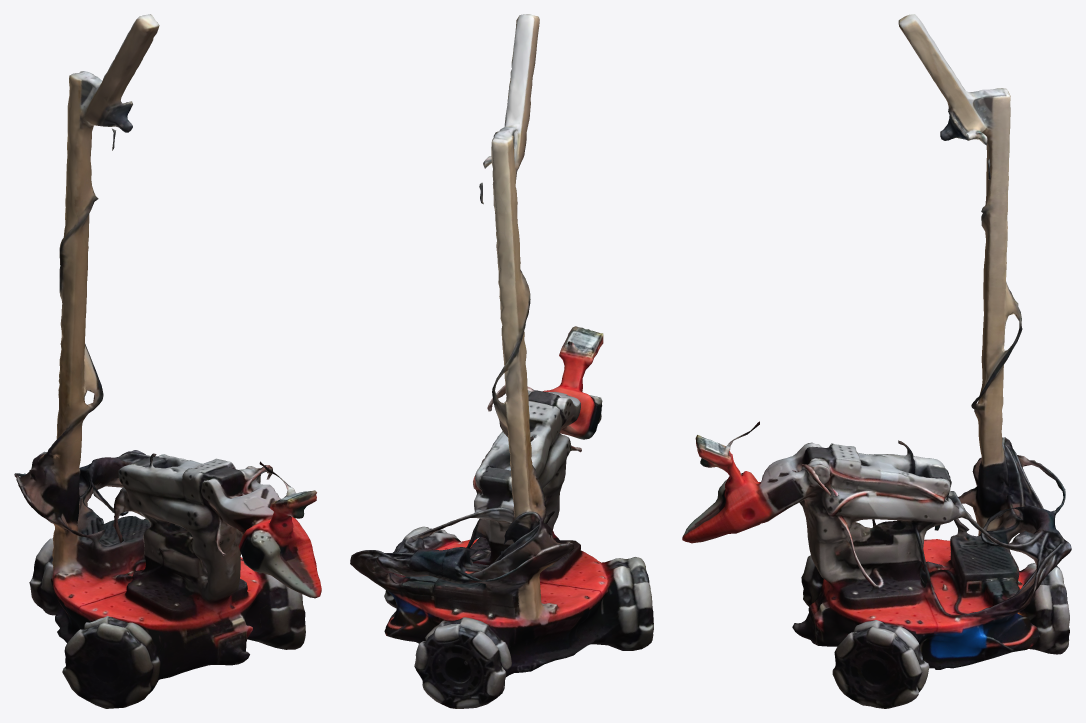
Rendered from lekiwi.glb.
3 renders of one model, left to right at view 1: azimuth 30°, elevation 25°; view 2: azimuth 150°, elevation 25°; view 3: azimuth 270°, elevation 25°, orthographic. The views are drawn at different scales.
Parts seen in each view (by area): view 1: LeKiwi; view 2: LeKiwi; view 3: LeKiwi.
Part boxes in pixels (bbox=[...]): LeKiwi: bbox=[14, 14, 321, 708]; LeKiwi: bbox=[350, 14, 653, 708]; LeKiwi: bbox=[682, 14, 1071, 708].
Bounding box in the file's own units: 0.299 × 0.7403 × 0.4123.
Materials: 1 (1 with a texture image).
